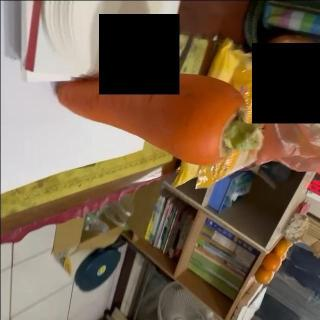carrot: (56, 72, 260, 166)
